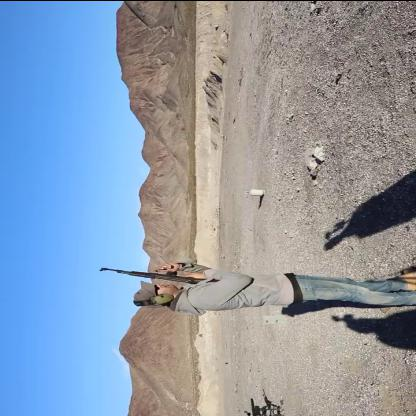long weapon: (98, 255, 224, 285)
